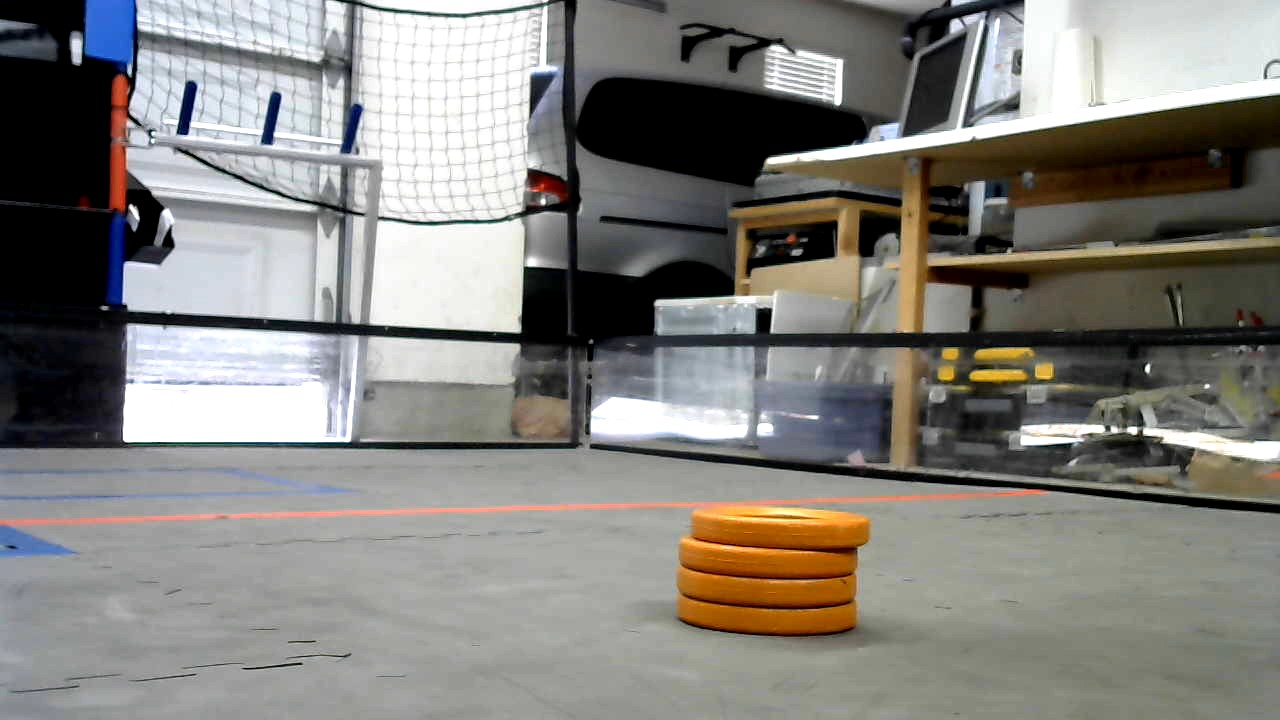FourStack: (677, 504, 870, 633)
